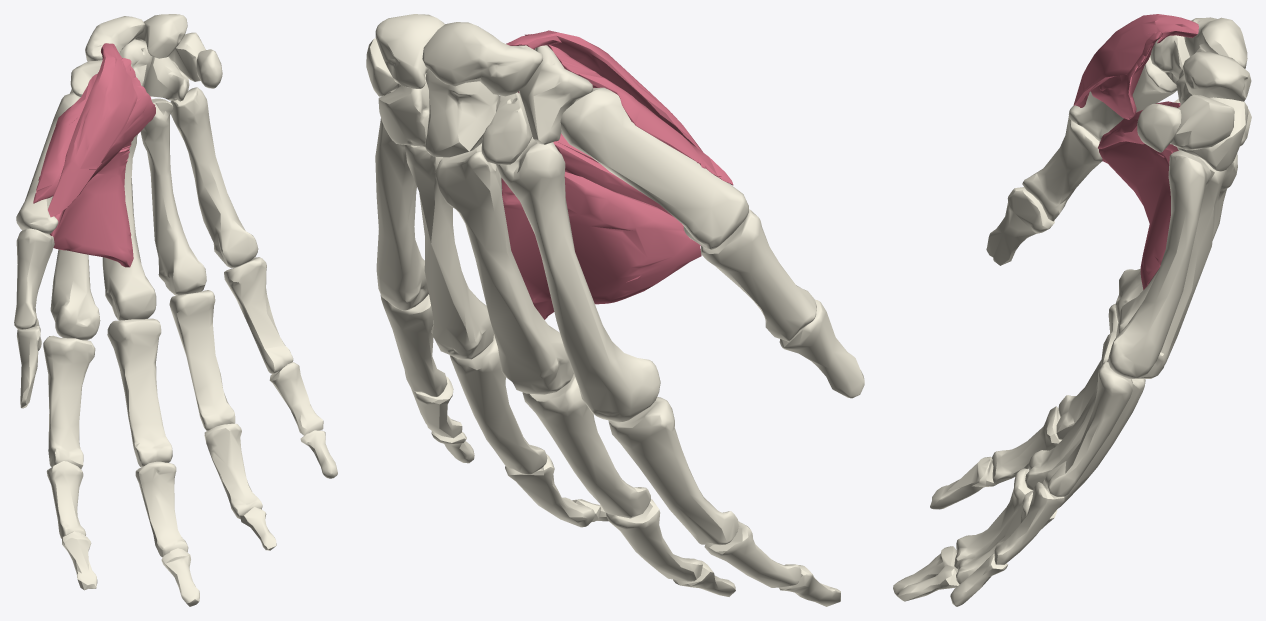
The model's file is hand.glb.
3 renders of one model, left to right at view 1: azimuth 30°, elevation 25°; view 2: azimuth 150°, elevation 25°; view 3: azimuth 270°, elevation 25°, orthographic. The views are drawn at different scales.
Visible parts, largest first — view 1: abductor-pollicis-brevis, metacarpal-5, adductor-pollicis, proximal-phalanx-3, metacarpal-4, proximal-phalanx-2, proximal-phalanx-4, opponens-pollicis, metacarpal-2, proximal-phalanx-5, metacarpal-3, middle-phalanx-3 (+17 smaller); view 2: adductor-pollicis, metacarpal-2, metacarpal-3, metacarpal-1, metacarpal-4, proximal-phalanx-2, metacarpal-5, proximal-phalanx-3, proximal-phalanx-1, scaphoid, proximal-phalanx-4, capitate (+16 smaller); view 3: metacarpal-5, adductor-pollicis, abductor-pollicis-brevis, proximal-phalanx-5, proximal-phalanx-1, metacarpal-4, distal-phalanx-1, metacarpal-1, lunate, triquetrum, proximal-phalanx-3, middle-phalanx-5 (+16 smaller).
Boxes of the visible parts, box(x1,y1,x2,y2) form: abductor-pollicis-brevis: box(48, 43, 137, 217); metacarpal-5: box(170, 87, 258, 268); adductor-pollicis: box(49, 138, 133, 267); proximal-phalanx-3: box(107, 318, 172, 467); metacarpal-4: box(140, 98, 206, 295); proximal-phalanx-2: box(43, 335, 95, 469); proximal-phalanx-4: box(169, 290, 235, 430); opponens-pollicis: box(33, 58, 155, 203); metacarpal-2: box(50, 249, 100, 340); proximal-phalanx-5: box(224, 257, 293, 373); metacarpal-3: box(102, 134, 156, 320); middle-phalanx-3: box(135, 461, 188, 557); adductor-pollicis: box(501, 133, 701, 319); metacarpal-2: box(495, 137, 660, 422); metacarpal-3: box(435, 143, 573, 394); metacarpal-1: box(560, 87, 748, 249); metacarpal-4: box(405, 145, 493, 359); proximal-phalanx-2: box(608, 397, 738, 545); metacarpal-5: box(375, 118, 428, 310); proximal-phalanx-3: box(522, 374, 650, 518); proximal-phalanx-1: box(700, 209, 816, 341); scaphoid: box(422, 22, 542, 96); proximal-phalanx-4: box(449, 334, 547, 474); capitate: box(425, 69, 499, 157); metacarpal-5: box(1108, 150, 1211, 378); adductor-pollicis: box(1098, 101, 1180, 289); abductor-pollicis-brevis: box(1073, 14, 1198, 107); proximal-phalanx-5: box(1045, 362, 1132, 496); proximal-phalanx-1: box(1022, 116, 1102, 221); metacarpal-4: box(1135, 157, 1227, 378); distal-phalanx-1: box(986, 187, 1054, 265); metacarpal-1: box(1068, 55, 1177, 141); lunate: box(1182, 51, 1251, 101); triquetrum: box(1171, 94, 1234, 150); proximal-phalanx-3: box(1025, 332, 1116, 490); middle-phalanx-5: box(994, 482, 1064, 564).
Bounding box in the file's own units: 0.105 × 0.1587 × 0.0849.
